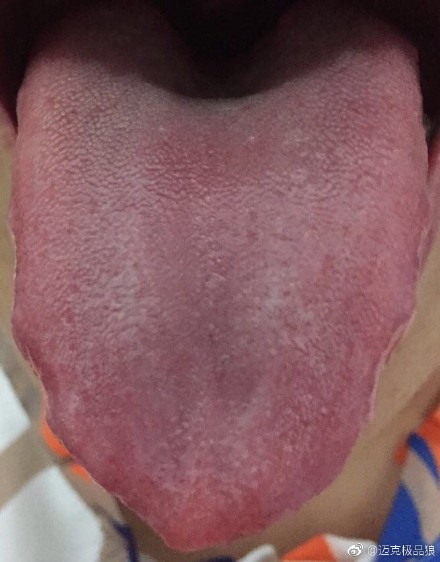baitaishe: (6, 1, 435, 551)
chihenshe: (10, 230, 129, 507), (348, 227, 434, 459)
shenquao: (99, 1, 346, 128)
